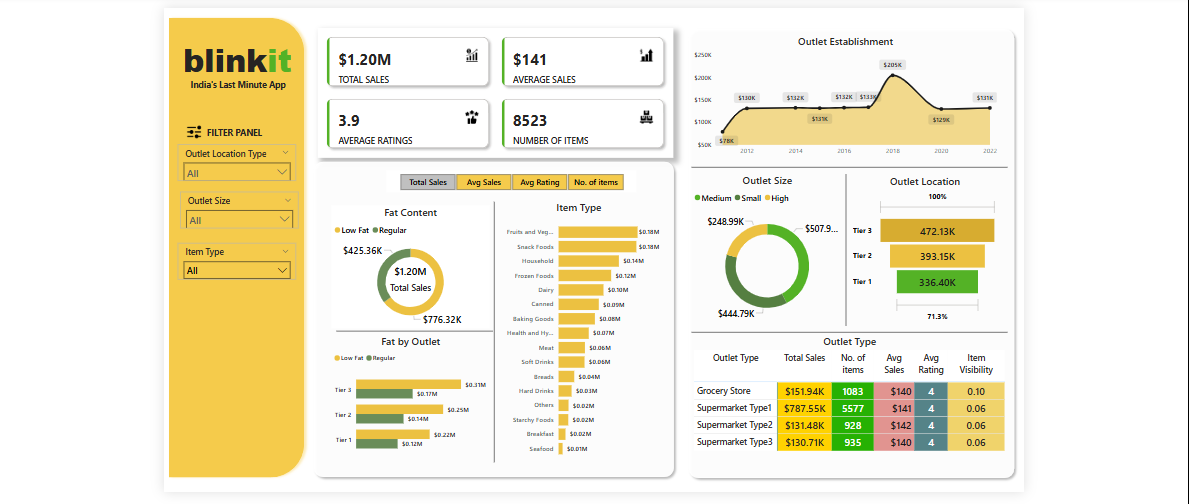

What the dashboard file says about the page in this screenshot:
{"tool":"powerbi","page":{"name":"Dashboard","canvas":[1600,900],"ordinal":0},"visuals":[{"type":"shape","box":[0,10,270,873.3],"z":0},{"type":"textbox","box":[30,48.6,232.9,95.7],"z":1000},{"type":"textbox","box":[44.3,125.7,205.7,37.1],"z":2000},{"type":"cardVisual","fields":{"Data":["BlinkIT Grocery Data.Total Sales","BlinkIT Grocery Data.Avg Sales","BlinkIT Grocery Data.Avg Rating","BlinkIT Grocery Data.Number of items"]},"box":[285.5,36.3,661.8,241.4],"z":3000},{"type":"shape","box":[269.9,277.7,687.7,604.7],"z":4000},{"type":"donutChart","title":"Fat Content","fields":{"Y":["BlinkIT Grocery Data.Total Sales"],"Category":["BlinkIT Grocery Data.Item Fat Content"]},"box":[311.7,367.3,294.3,228.6],"z":5000},{"type":"slicer","fields":{"Values":["Metrics.Metrics"]},"box":[413.2,301.6,464.5,40.7],"z":6000},{"type":"card","fields":{"Values":["BlinkIT Grocery Data.Total Sales"]},"box":[406.7,456.7,103.3,95],"z":7000},{"type":"clusteredBarChart","title":"Fat by Outlet","fields":{"Y":["BlinkIT Grocery Data.Total Sales"],"Category":["BlinkIT Grocery Data.Outlet Location Type"],"Series":["BlinkIT Grocery Data.Item Fat Content"]},"box":[311.7,606.7,295,238.3],"z":8000},{"type":"shape","box":[320,580,291.4,44.3],"z":9000},{"type":"shape","box":[595,360,38.3,485],"z":10000},{"type":"barChart","title":"Item Type","fields":{"Y":["BlinkIT Grocery Data.Total Sales"],"Category":["BlinkIT Grocery Data.Item Type"]},"box":[617.3,357.2,311.1,488.5],"z":11000},{"type":"shape","box":[966.7,30,623.3,853.3],"z":12000},{"type":"lineChart","title":"Outlet Establishment ","fields":{"Category":["BlinkIT Grocery Data.Outlet Establishment Year"],"Y":["BlinkIT Grocery Data.Total Sales"]},"box":[981.7,48.3,573.3,235],"z":13000},{"type":"shape","box":[981.7,279,588.1,34.7],"z":14000},{"type":"donutChart","title":"Outlet Size","fields":{"Y":["BlinkIT Grocery Data.Total Sales"],"Category":["BlinkIT Grocery Data.Outlet Size"]},"box":[981.7,306.1,282,289.5],"z":15000},{"type":"shape","box":[1248.3,308.3,40,281.7],"z":16000},{"type":"funnel","title":"Outlet Location","fields":{"Y":["Sum(BlinkIT Grocery Data.Sales)"],"Category":["BlinkIT Grocery Data.Outlet Location Type"]},"box":[1276.7,308.3,278.3,280],"z":17000},{"type":"shape","box":[981.7,585.1,588.1,34.7],"z":18000},{"type":"pivotTable","title":"Outlet Type","fields":{"Rows":["BlinkIT Grocery Data.Outlet Type"],"Values":["BlinkIT Grocery Data.Total Sales","BlinkIT Grocery Data.No. of items","BlinkIT Grocery Data.Avg Sales","BlinkIT Grocery Data.Avg Rating","Avg(BlinkIT Grocery Data.Item Visibility)"]},"box":[981.7,606.7,588.3,238.3],"z":19000},{"type":"slicer","fields":{"Values":["BlinkIT Grocery Data.Outlet Location Type"]},"box":[26.7,253.3,220,68.3],"z":20000},{"type":"slicer","fields":{"Values":["BlinkIT Grocery Data.Outlet Size"]},"box":[30,341.7,220,68.3],"z":21000},{"type":"slicer","fields":{"Values":["BlinkIT Grocery Data.Item Type"]},"box":[26.7,436.7,220,68.3],"z":22000},{"type":"textbox","box":[74.2,215.7,123.7,37.7],"z":23000},{"type":"image","box":[36.5,206.6,37.7,46.7],"z":25000}]}

Visuals, with their boxes on the page's 1600x900 design canvas (x1, y1, x2, y2). These are canvas units, not pixel positions in the 1189x504 screenshot, which may show the page scaled, cropped or inside an application window:
shape: <box>0,10,270,883</box>
textbox: <box>30,49,263,144</box>
textbox: <box>44,126,250,163</box>
cardVisual - BlinkIT Grocery Data.Total Sales x BlinkIT Grocery Data.Avg Sales: <box>286,36,947,278</box>
shape: <box>270,278,958,882</box>
"Fat Content" donutChart: <box>312,367,606,596</box>
slicer - Metrics.Metrics: <box>413,302,878,342</box>
card - BlinkIT Grocery Data.Total Sales: <box>407,457,510,552</box>
"Fat by Outlet" clusteredBarChart: <box>312,607,607,845</box>
shape: <box>320,580,611,624</box>
shape: <box>595,360,633,845</box>
"Item Type" barChart: <box>617,357,928,846</box>
shape: <box>967,30,1590,883</box>
"Outlet Establishment " lineChart: <box>982,48,1555,283</box>
shape: <box>982,279,1570,314</box>
"Outlet Size" donutChart: <box>982,306,1264,596</box>
shape: <box>1248,308,1288,590</box>
"Outlet Location" funnel: <box>1277,308,1555,588</box>
shape: <box>982,585,1570,620</box>
"Outlet Type" pivotTable: <box>982,607,1570,845</box>
slicer - BlinkIT Grocery Data.Outlet Location Type: <box>27,253,247,322</box>
slicer - BlinkIT Grocery Data.Outlet Size: <box>30,342,250,410</box>
slicer - BlinkIT Grocery Data.Item Type: <box>27,437,247,505</box>
textbox: <box>74,216,198,253</box>
image: <box>36,207,74,253</box>
